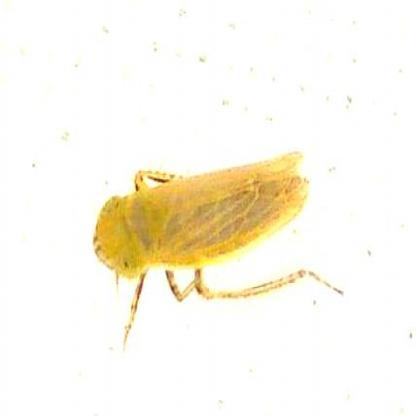green-leafhopper: (95, 132, 340, 338)
